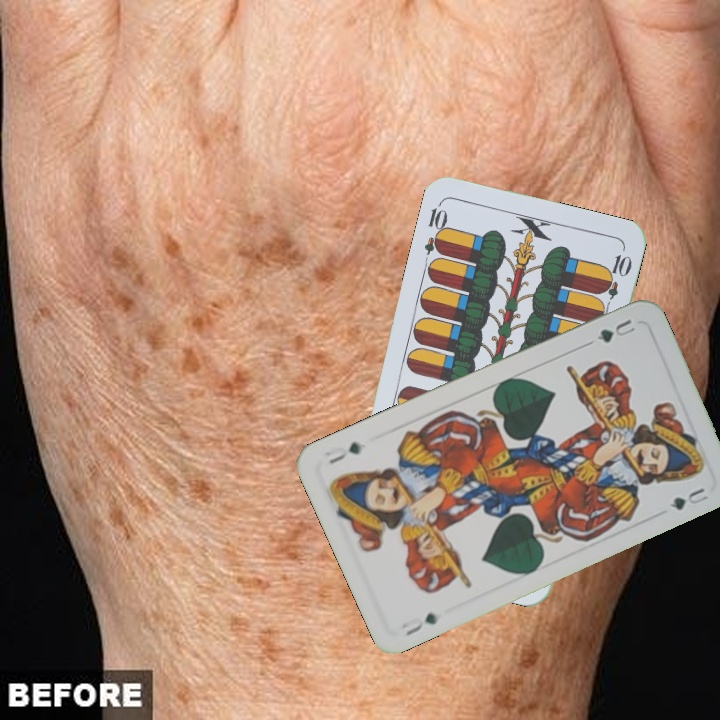E10: (420, 198, 450, 257)
GU: (593, 315, 638, 346), (397, 608, 440, 639)
